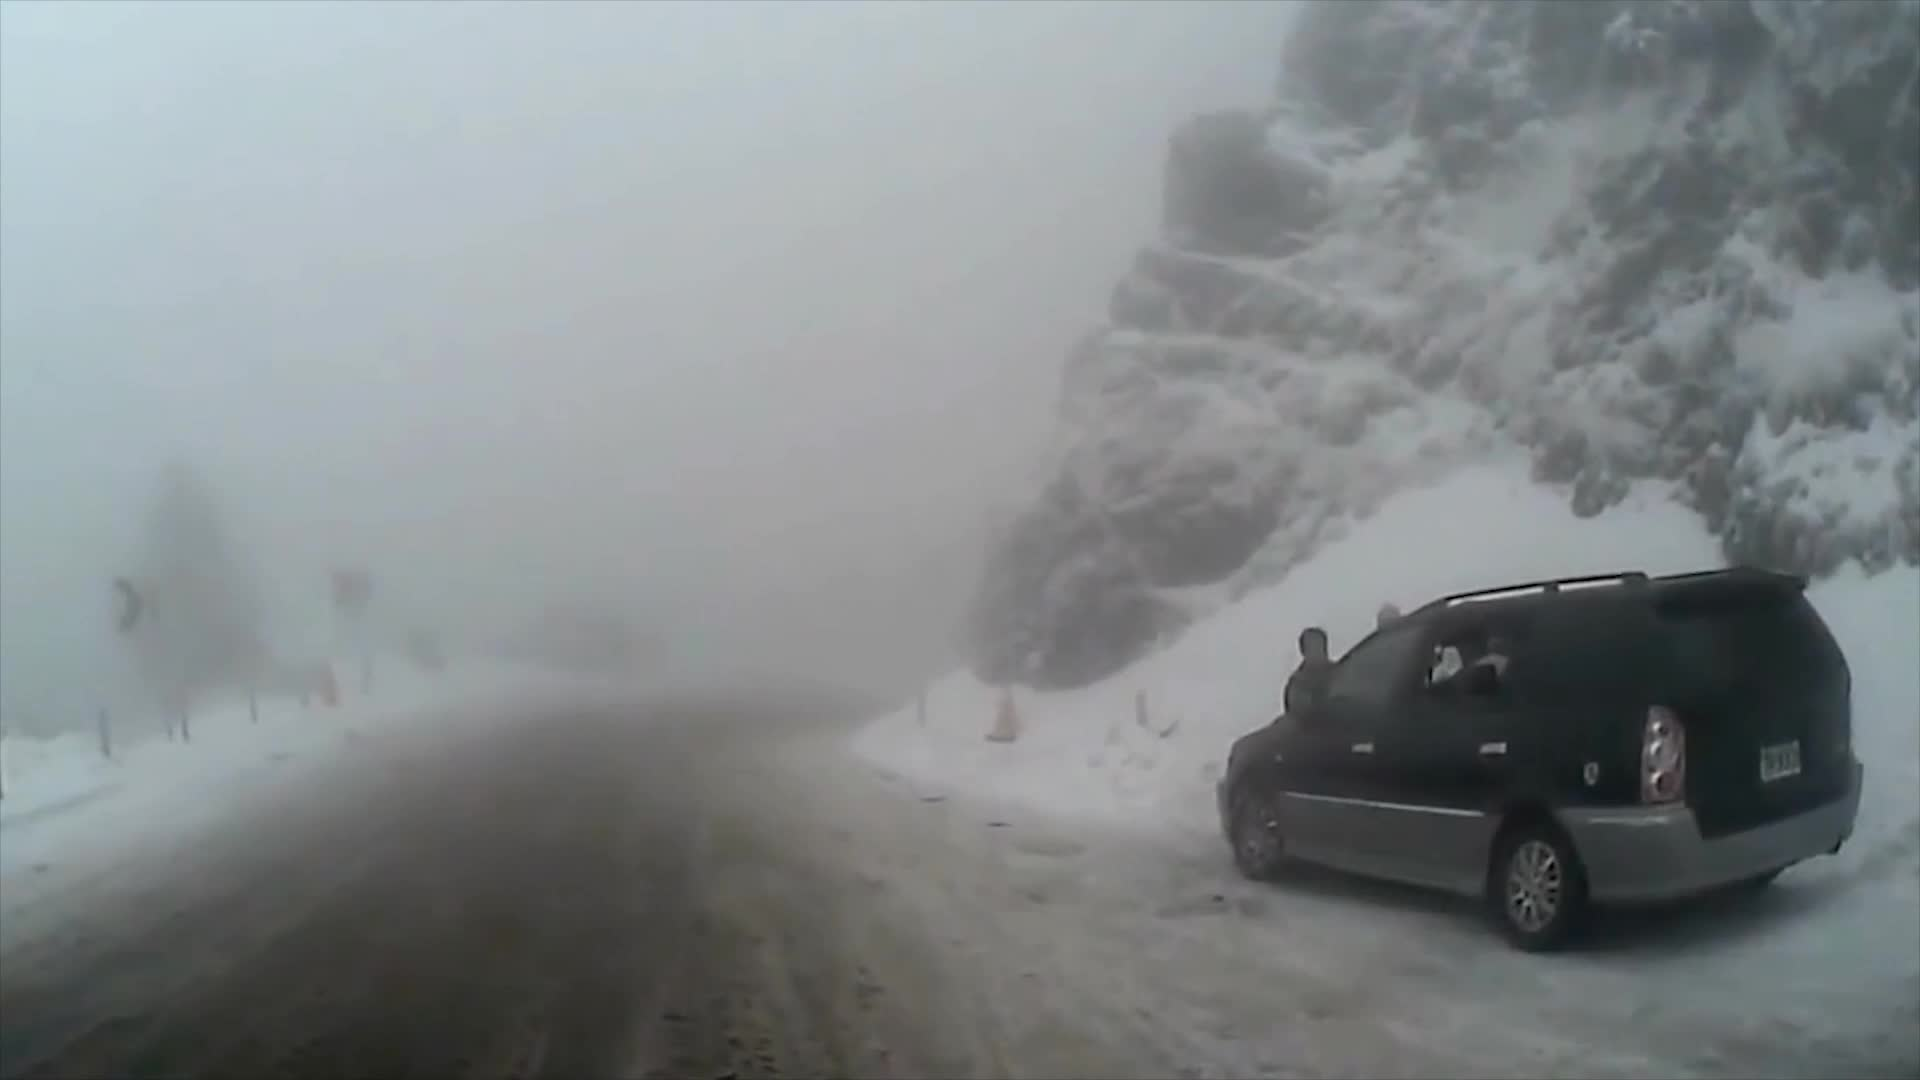pedestrian: (1279, 623, 1343, 841)
vehicle: (1213, 561, 1857, 950)
